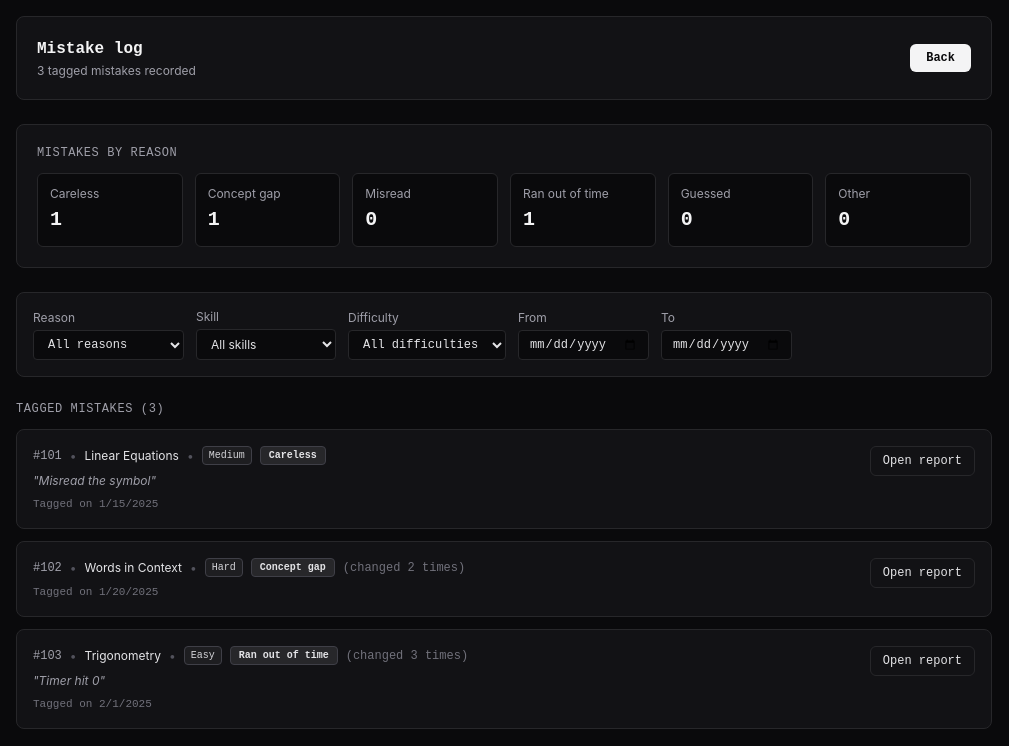
Test: MistakeLogScreen › filters by difficulty
The width and height of the screenshot is (1009, 746).
Select "Easy" in the dropdown named "Filter by difficulty" at point(427, 345), box [348,330,506,360]
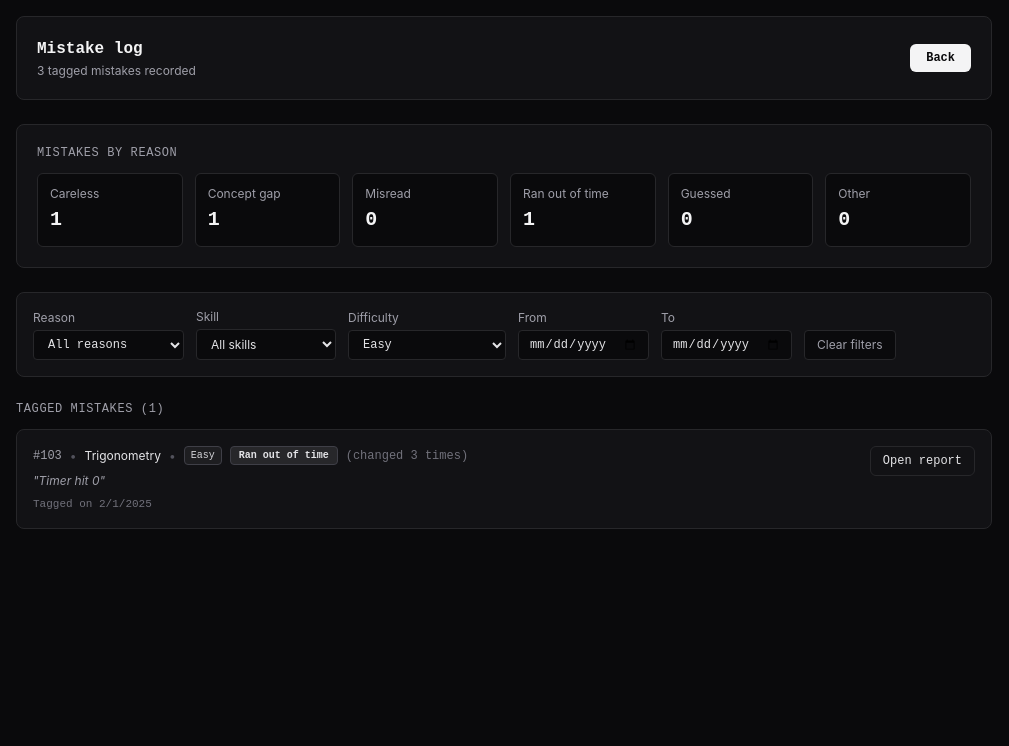
expect the text "#103" is shown: met, box [33,448,62,464]
expect the text "#101" is gone: met
expect the text "#102" is gone: met
